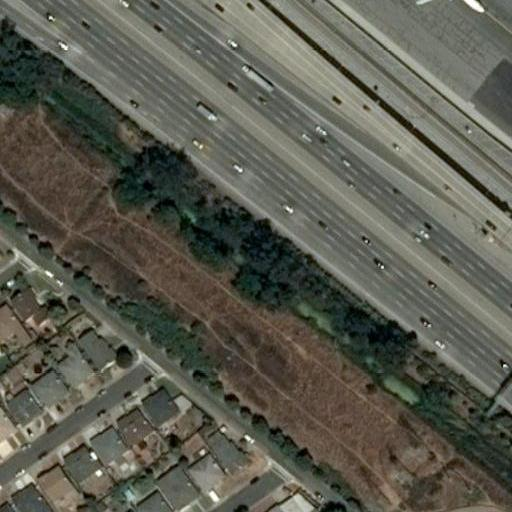Aircraft: (400, 0, 487, 15)
